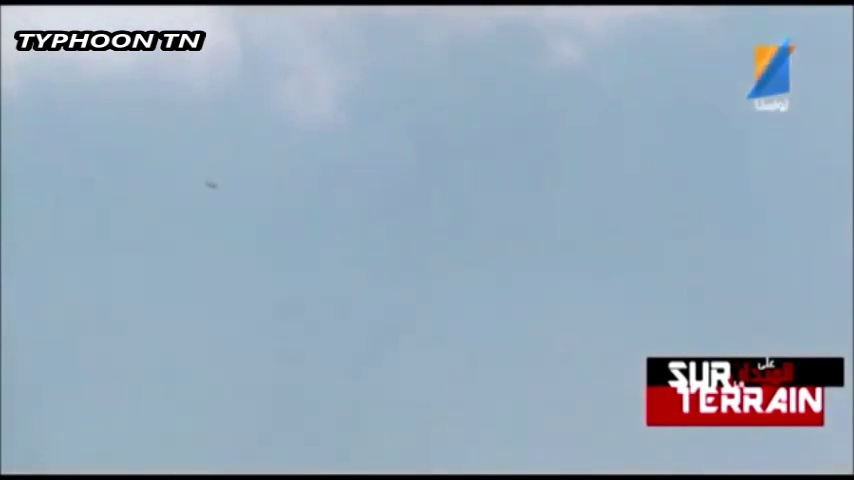Airplane: (203, 179, 223, 191)
